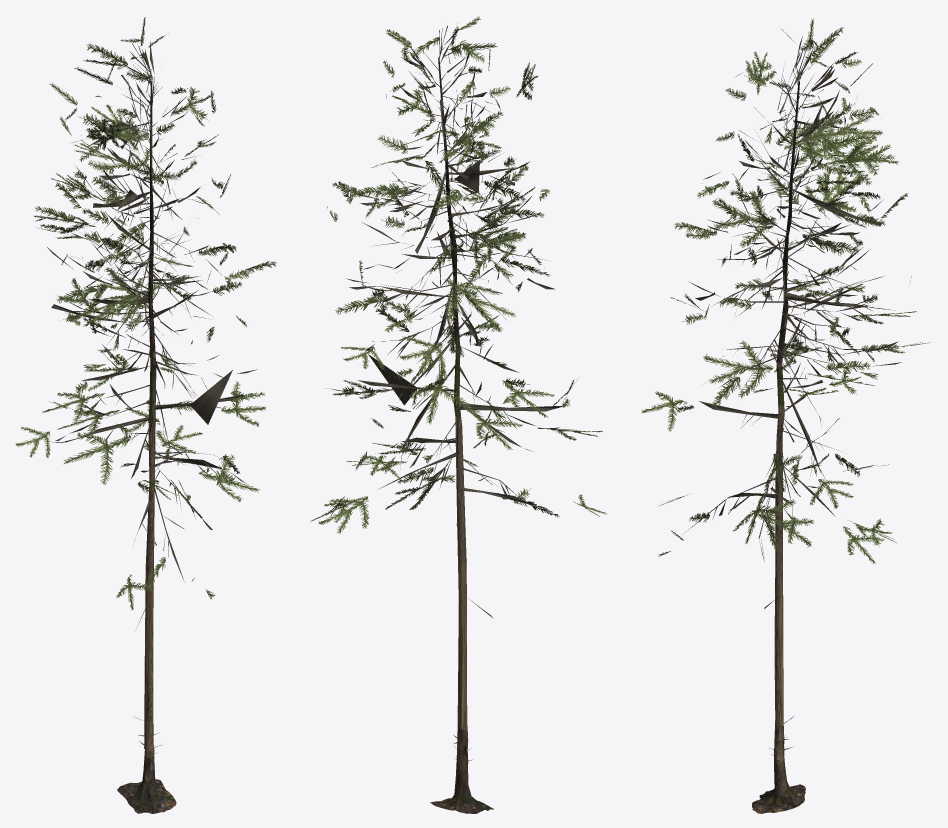
Rendered from fir-0-far.glb.
3 views of the same model, side by side, from view 1: azimuth 30°, elevation 25°; view 2: azimuth 150°, elevation 25°; view 3: azimuth 270°, elevation 25° (orthographic). The views are drawn at different scales.
Visible parts, largest first — view 1: fir_0_far; view 2: fir_0_far; view 3: fir_0_far.
Part boxes in pixels (x1,y1,x2,y2): fir_0_far: [15, 17, 276, 813]; fir_0_far: [310, 16, 606, 813]; fir_0_far: [641, 18, 931, 813].
Bounding box in the file's own units: 5.1 × 14.16 × 4.89.
Materials: 3 (3 with a texture image).
